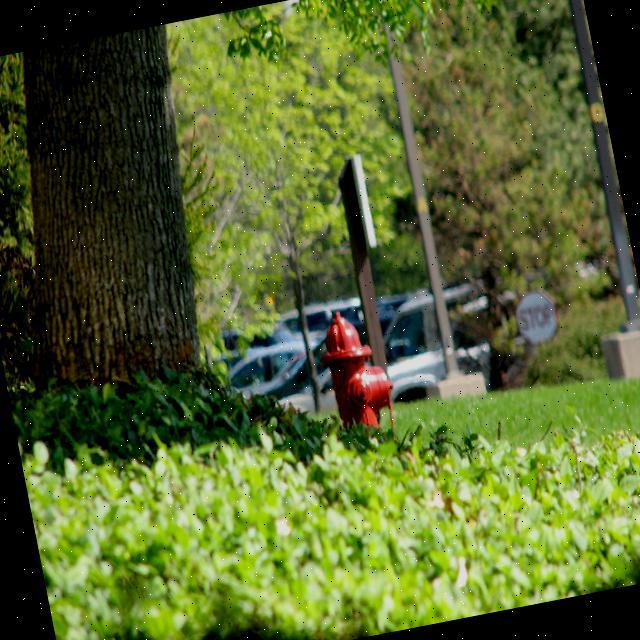fire_hydrant: (314, 303, 405, 447)
